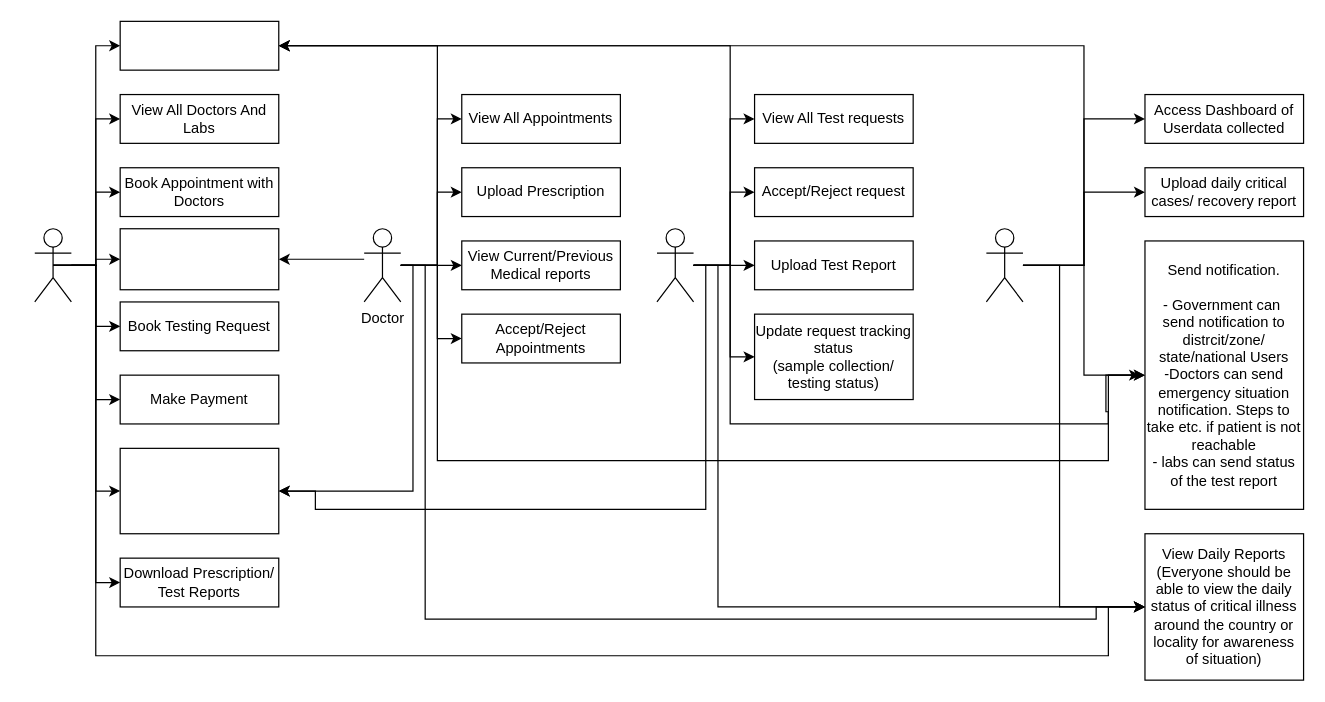
The diagram is 1325 pixels wide and 702 high, and some of its shapes have lost their labels. The shapes that lost their labels are listed below. From the top down, each one's centre as x and y in pixels, then its label:
point (199, 45): Register/Update Account
point (52, 265): Customer
point (199, 259): Consult Instantly (Video call/ Audio call)
point (675, 265): Testing Lab
point (1004, 265): Government Authority
point (199, 490): Track/View Previous/New Apointments/Test Requests
